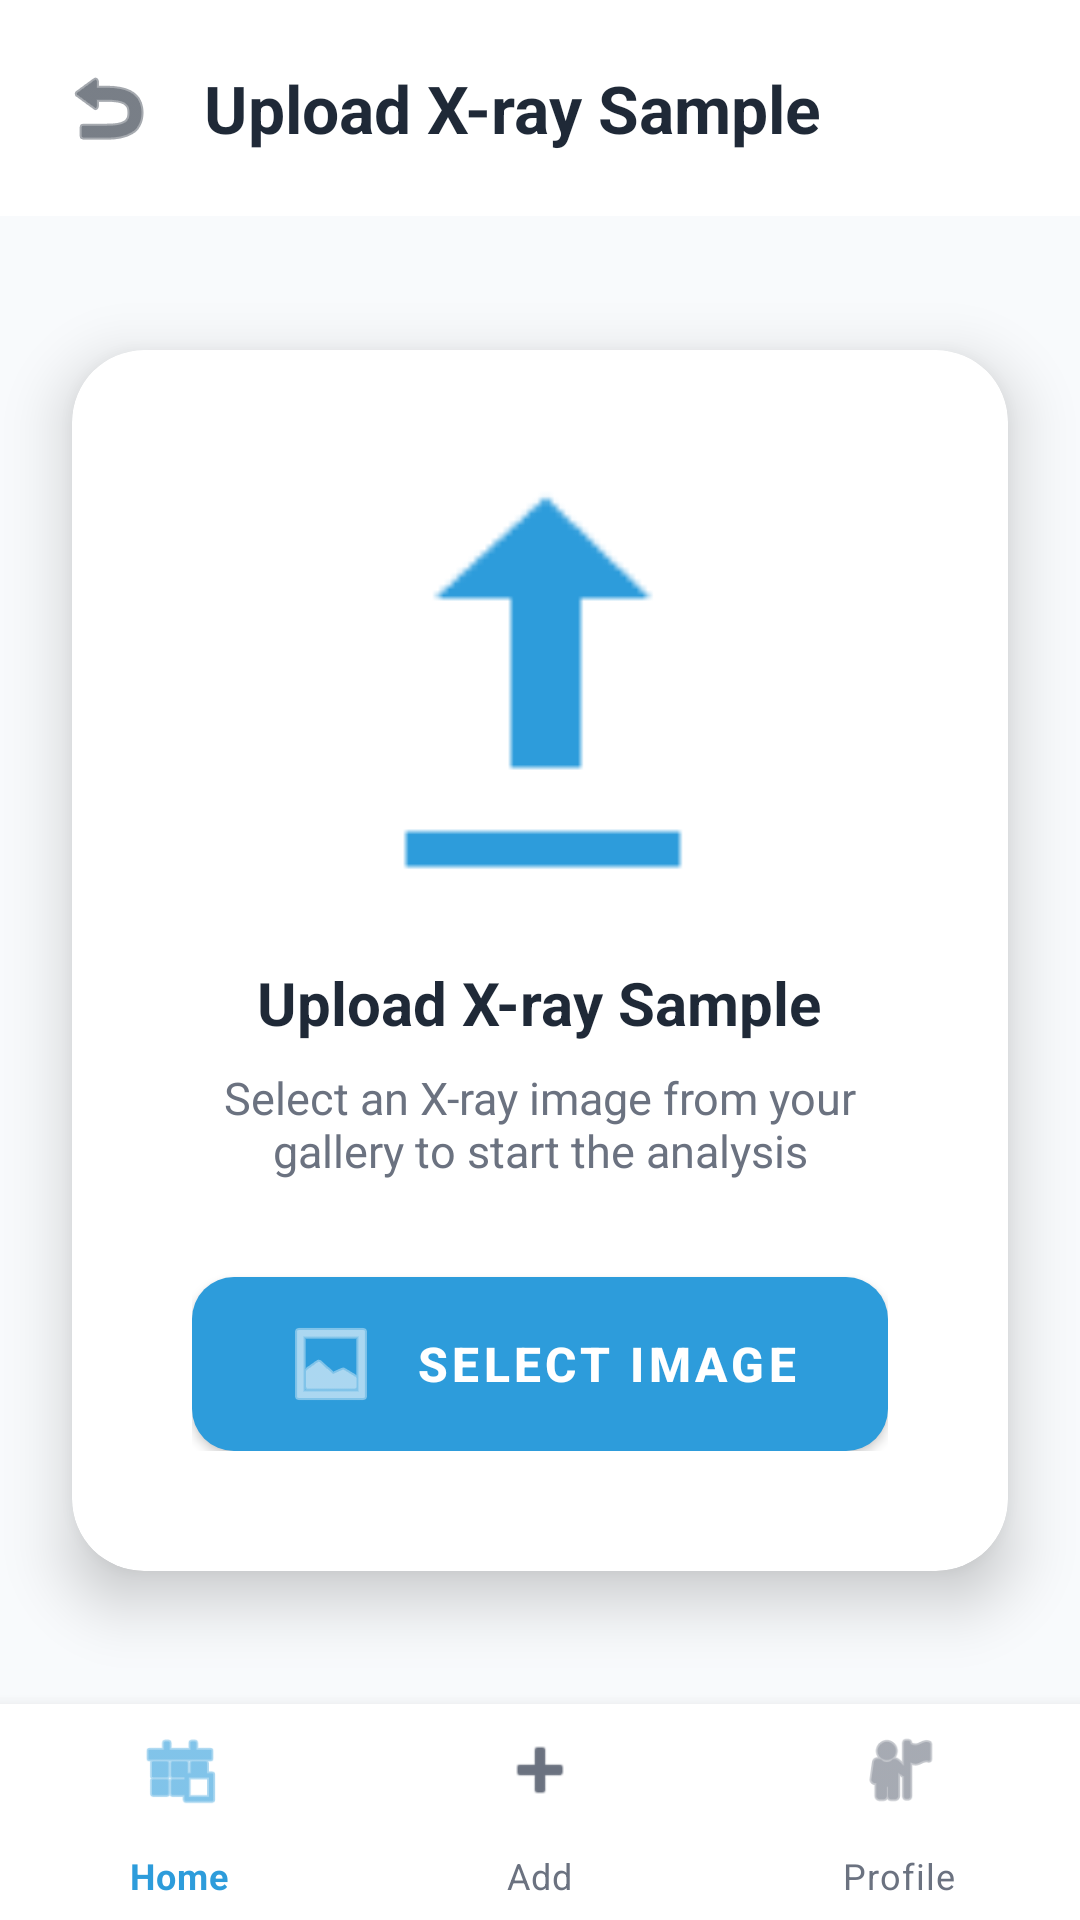

Locate icon controls on the screen. Image size 1080*1920, boxes as [x1,y1,x2,y2].
revert: [75,77,144,140]
